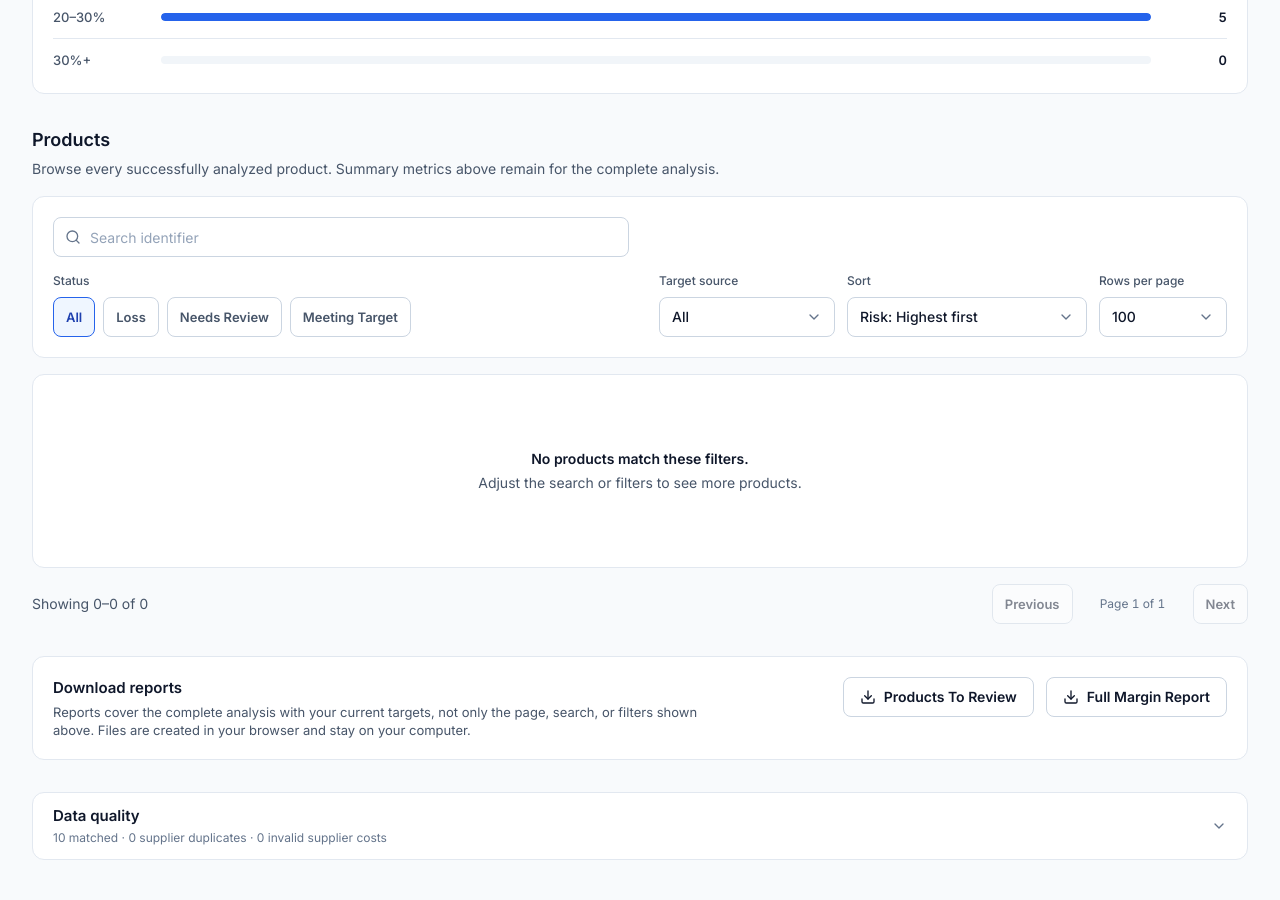
report export controls › shows progress, blocks repeated clicks, and can be cancelled
(page scrolled)
Click the button "Products To Review".
click(938, 697)  # box [843,677,1034,717]
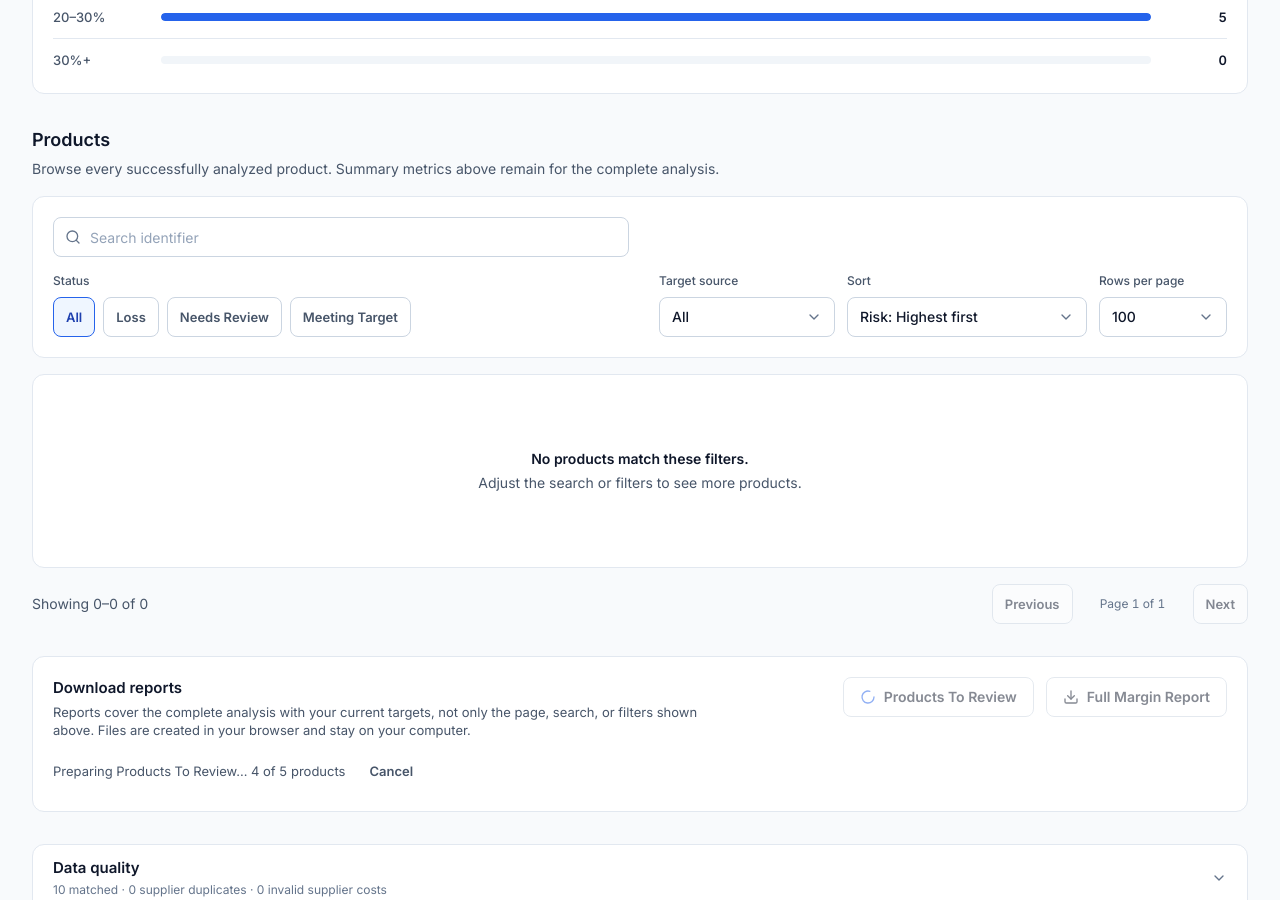
Now the text "Preparing Products To Review… 4 of 5 products" is shown, box [53,762,346,780]
Now the button "Products To Review" is disabled, box [843,677,1034,717]
Now the button "Full Margin Report" is disabled, box [1046,677,1227,717]
Click the button "Cancel".
click(391, 771)  # box [358,751,425,791]
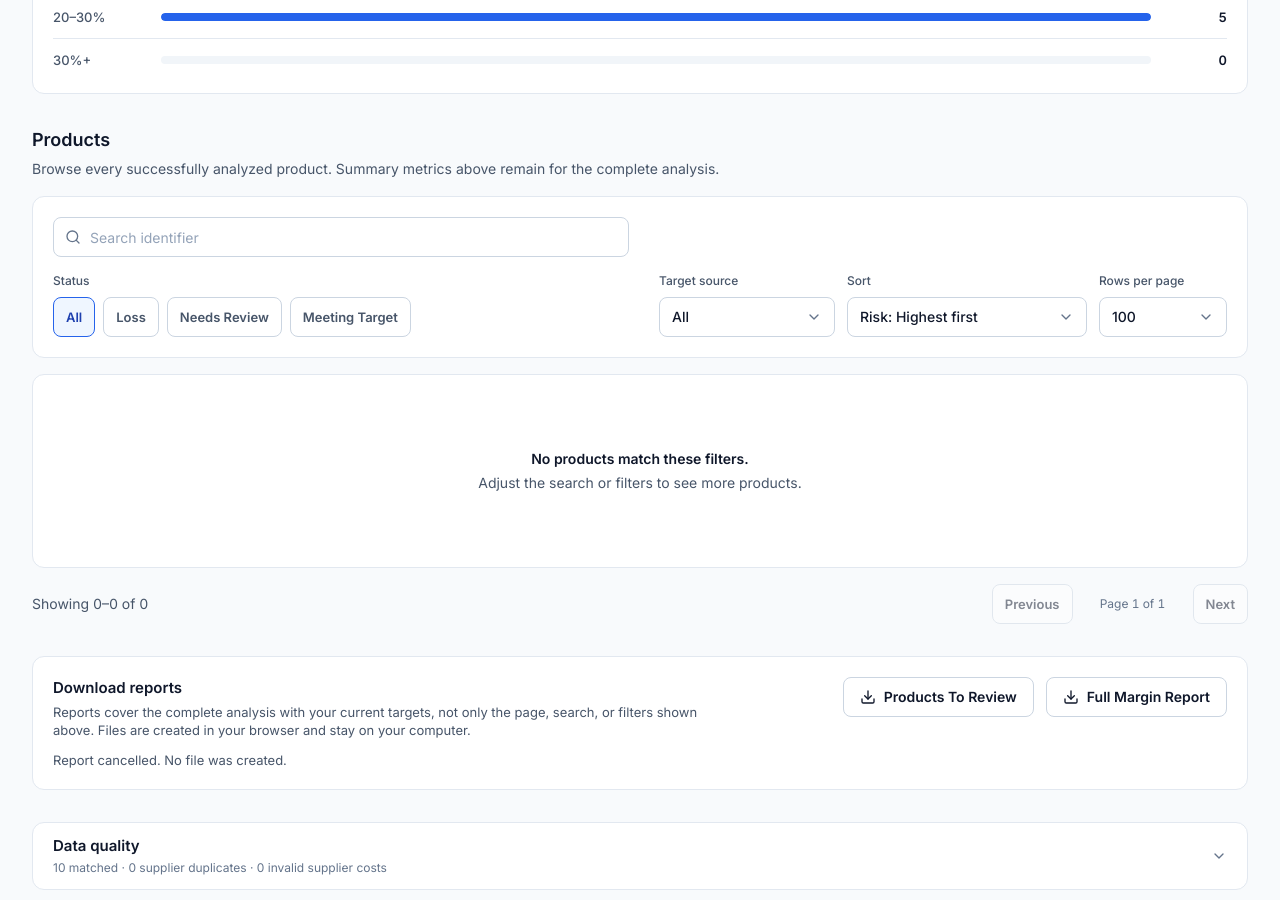
Now the text "Report cancelled. No file was created." is shown, box [53,752,287,768]
Now the button "Products To Review" is enabled, box [843,677,1034,717]
